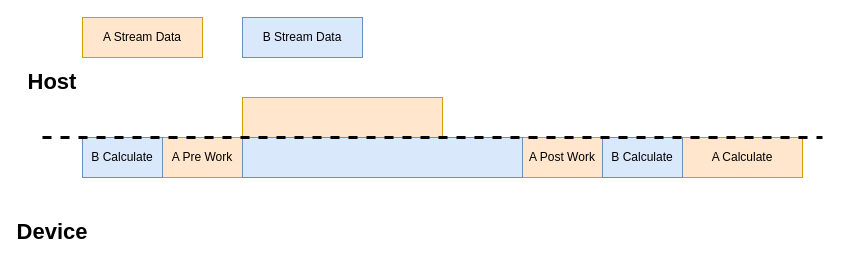
This 842x265 diagram has some shape labels left out. The centre of each missing label's shape, as x and y in pixels:
A Net Work: (x=342, y=117)
B Stream Calculate: (x=382, y=157)
